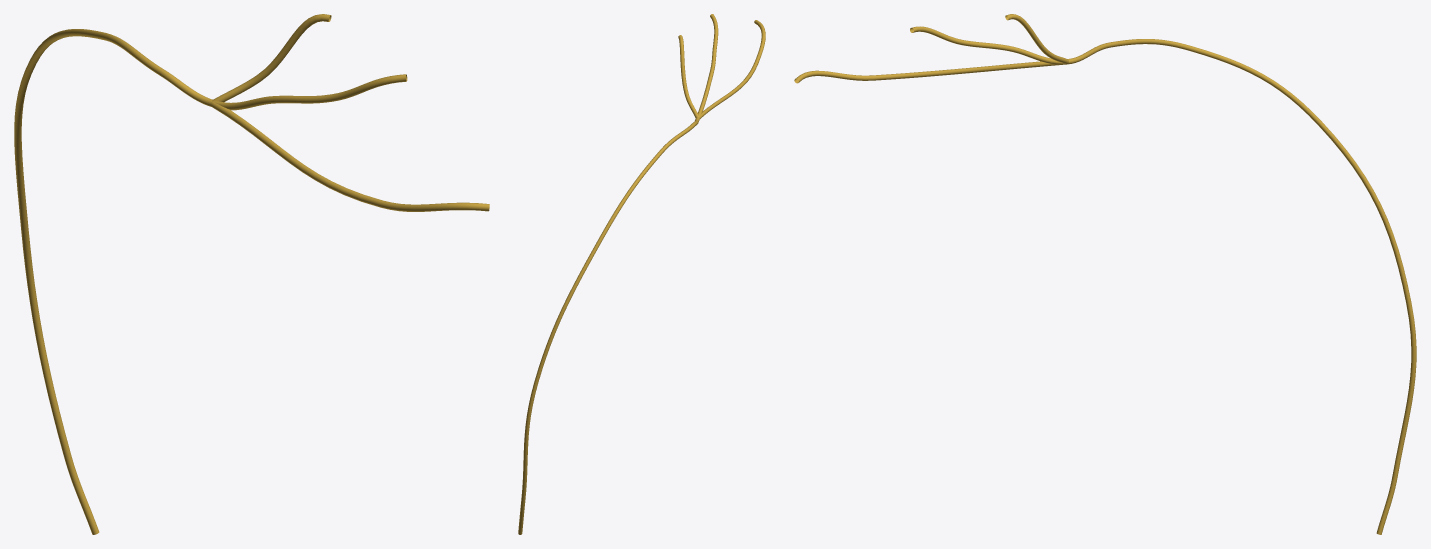
The picture shows the model from 3 angles, left to right: view 1: azimuth 30°, elevation 25°; view 2: azimuth 150°, elevation 25°; view 3: azimuth 270°, elevation 25°; orthographic projection. The views are drawn at different scales.
Visible parts, largest first — view 1: 右侧阴部神经; view 2: 右侧阴部神经; view 3: 右侧阴部神经.
Part boxes in pixels (box(x1,y1,x2,y2)): 右侧阴部神经: box(14, 14, 489, 534); 右侧阴部神经: box(518, 14, 765, 534); 右侧阴部神经: box(794, 14, 1416, 534).
Size of the model in its own units: 0.03 by 0.1548 by 0.1712.
